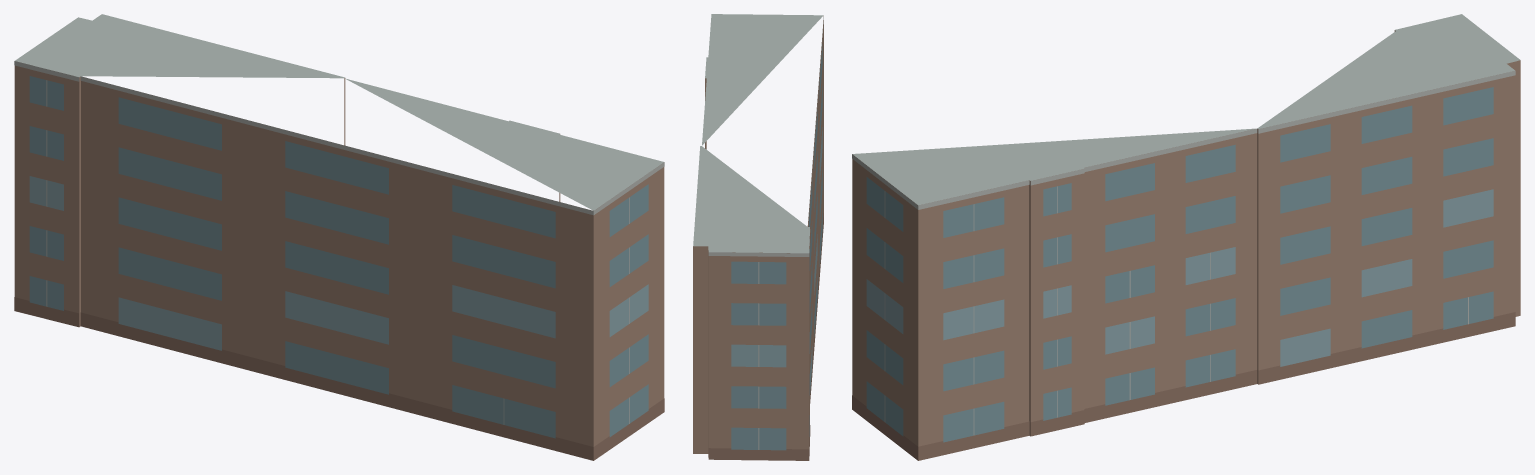
Rendered from survey-upis-32582864.glb.
3 views of the same model, side by side, from view 1: azimuth 30°, elevation 25°; view 2: azimuth 150°, elevation 25°; view 3: azimuth 270°, elevation 25° (orthographic). The views are drawn at different scales.
Parts seen in each view (by area): view 1: survey-upis-32582864.tmp; view 2: survey-upis-32582864.tmp; view 3: survey-upis-32582864.tmp.
Part boxes in pixels (x1,y1,x2,y2): survey-upis-32582864.tmp: (14,14,664,460); survey-upis-32582864.tmp: (693,14,823,460); survey-upis-32582864.tmp: (852,14,1520,460).
Size of the model in its own units: 21.7 by 13.5 by 32.02.
